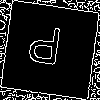P: (24, 24, 64, 74)
